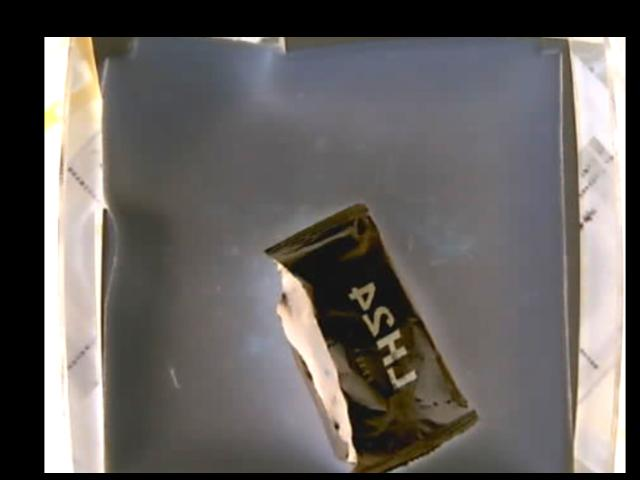Medicine: (264, 200, 478, 472)
